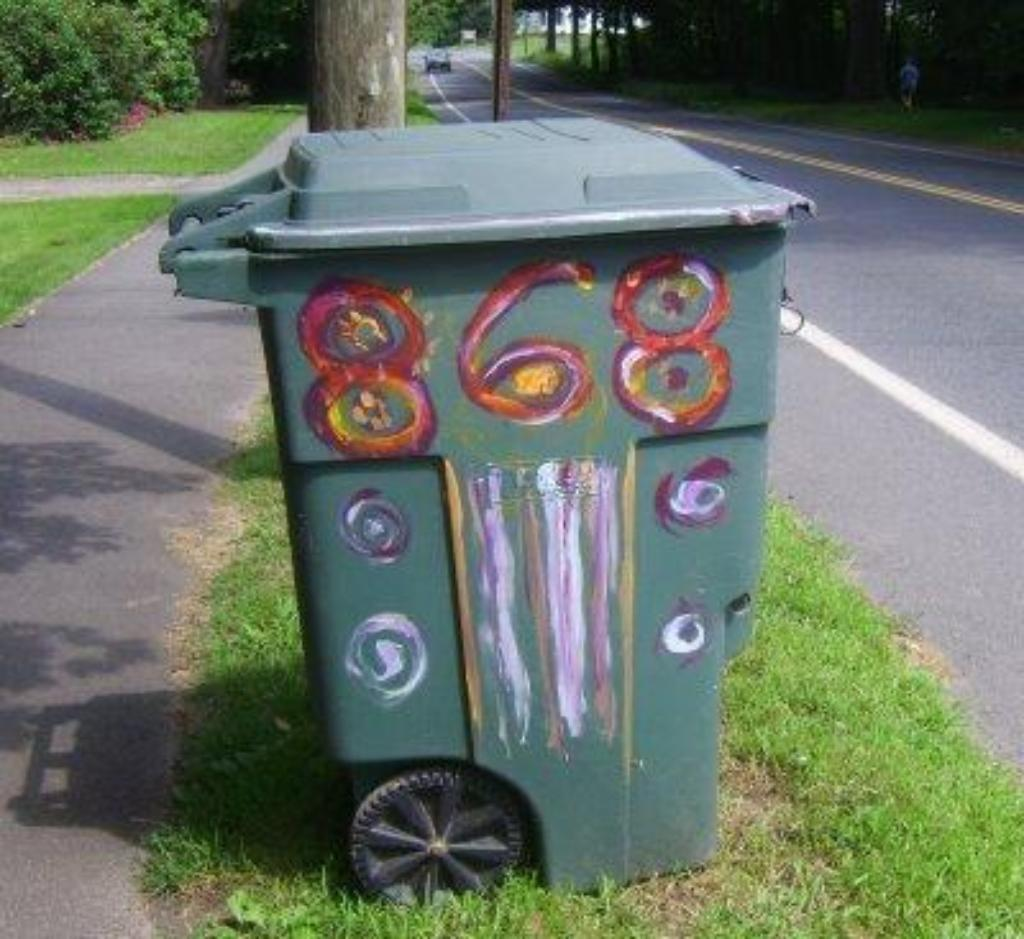dustbin: (178, 114, 801, 912)
